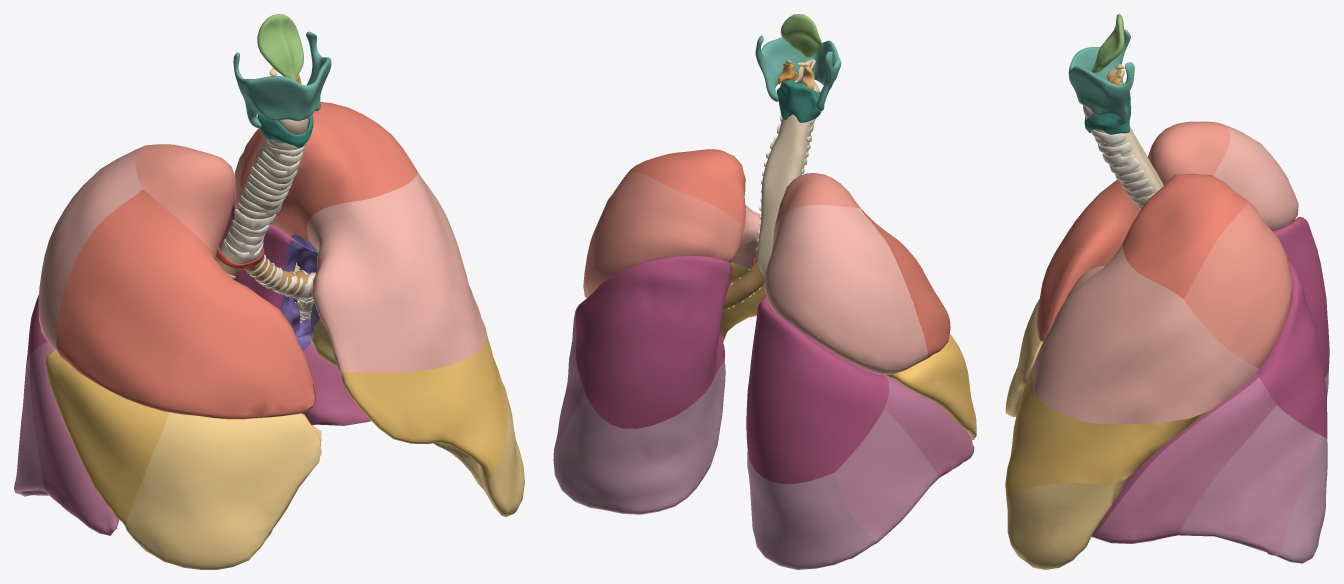
Rendered from pulmao.glb.
3 views of the same model, side by side, from view 1: azimuth 30°, elevation 25°; view 2: azimuth 150°, elevation 25°; view 3: azimuth 270°, elevation 25° (orthographic). The views are drawn at different scales.
Visible parts, largest first — view 1: VH_M_right_anterior_bronchopulmonary_segment, VH_M_left_anterior_bronchopulmonary_segment, VH_M_right_medial_bronchopulmonary_segment, VH_M_left_lingula_superior_bronchopulmonary_segment, VH_M_left_apical_bronchopulmonary_segment, VH_M_right_lateral_bronchopulmonary_segment, VH_M_right_apical_bronchopulmonary_segment, VH_M_right_posterior_bronchopulmonary_segment, VH_M_right_anterior_basal_bronchopulmonary_segment, VH_M_thyroid_cartilage, VH_M_tracheal_cartilage, VH_M_left_lingula_inferior_bronchopulmonary_segment (+10 smaller); view 2: VH_M_left_superior_bronchopulmonary_segment, VH_M_right_posterior_bronchopulmonary_segment, VH_M_right_superior_bronchopulmonary_segment, VH_M_left_posetrior_basal_bronchopulmonary_segment, VH_M_left_posterior_bronchopulmonary_segment, VH_M_right_posterior_basal_bronchopulmonary_segment, VH_M_right_lateral_basal_bronchopulmonary_segment, VH_M_left_apical_bronchopulmonary_segment, VH_M_right_anterior_basal_bronchopulmonary_segment, VH_M_trachea, VH_M_right_lateral_bronchopulmonary_segment, VH_M_right_anterior_bronchopulmonary_segment (+8 smaller); view 3: VH_M_left_anterior_bronchopulmonary_segment, VH_M_left_lateral_basal_bronchopulmonary_segment, VH_M_left_posterior_bronchopulmonary_segment, VH_M_left_anterior_basal_bronchopulmonary_segment, VH_M_left_lingula_superior_bronchopulmonary_segment, VH_M_left_apical_bronchopulmonary_segment, VH_M_left_lingula_inferior_bronchopulmonary_segment, VH_M_right_anterior_bronchopulmonary_segment, VH_M_left_superior_bronchopulmonary_segment, VH_M_right_posterior_bronchopulmonary_segment, VH_M_right_apical_bronchopulmonary_segment, VH_M_left_posetrior_basal_bronchopulmonary_segment (+8 smaller).
Boxes of the visible parts, left/top/right/bottom form: VH_M_right_anterior_bronchopulmonary_segment: left=56, top=189, right=315, bottom=419; VH_M_left_anterior_bronchopulmonary_segment: left=307, top=172, right=486, bottom=372; VH_M_right_medial_bronchopulmonary_segment: left=125, top=412, right=321, bottom=569; VH_M_left_lingula_superior_bronchopulmonary_segment: left=338, top=328, right=507, bottom=477; VH_M_left_apical_bronchopulmonary_segment: left=240, top=102, right=417, bottom=240; VH_M_right_lateral_bronchopulmonary_segment: left=45, top=349, right=169, bottom=525; VH_M_right_apical_bronchopulmonary_segment: left=135, top=144, right=235, bottom=259; VH_M_right_posterior_bronchopulmonary_segment: left=38, top=146, right=143, bottom=355; VH_M_right_anterior_basal_bronchopulmonary_segment: left=30, top=342, right=119, bottom=535; VH_M_thyroid_cartilage: left=233, top=31, right=331, bottom=128; VH_M_tracheal_cartilage: left=224, top=139, right=306, bottom=259; VH_M_left_lingula_inferior_bronchopulmonary_segment: left=311, top=318, right=524, bottom=517; VH_M_left_superior_bronchopulmonary_segment: left=575, top=256, right=732, bottom=428; VH_M_right_posterior_bronchopulmonary_segment: left=764, top=205, right=927, bottom=374; VH_M_right_superior_bronchopulmonary_segment: left=746, top=296, right=889, bottom=483; VH_M_left_posetrior_basal_bronchopulmonary_segment: left=553, top=358, right=725, bottom=514; VH_M_left_posterior_bronchopulmonary_segment: left=585, top=172, right=744, bottom=294; VH_M_right_posterior_basal_bronchopulmonary_segment: left=747, top=451, right=877, bottom=569; VH_M_right_lateral_basal_bronchopulmonary_segment: left=835, top=408, right=938, bottom=542; VH_M_left_apical_bronchopulmonary_segment: left=624, top=149, right=745, bottom=227; VH_M_right_anterior_basal_bronchopulmonary_segment: left=884, top=374, right=974, bottom=477; VH_M_trachea: left=755, top=59, right=819, bottom=278; VH_M_right_lateral_bronchopulmonary_segment: left=886, top=334, right=975, bottom=431; VH_M_right_anterior_bronchopulmonary_segment: left=861, top=209, right=950, bottom=358; VH_M_left_anterior_bronchopulmonary_segment: left=1032, top=243, right=1259, bottom=424; VH_M_left_lateral_basal_bronchopulmonary_segment: left=1178, top=404, right=1317, bottom=556; VH_M_left_posterior_bronchopulmonary_segment: left=1184, top=200, right=1292, bottom=368; VH_M_left_anterior_basal_bronchopulmonary_segment: left=1091, top=377, right=1276, bottom=543; VH_M_left_lingula_superior_bronchopulmonary_segment: left=1005, top=365, right=1254, bottom=499; VH_M_left_apical_bronchopulmonary_segment: left=1123, top=173, right=1247, bottom=299; VH_M_left_lingula_inferior_bronchopulmonary_segment: left=1006, top=472, right=1133, bottom=569; VH_M_right_anterior_bronchopulmonary_segment: left=1036, top=180, right=1139, bottom=341; VH_M_left_superior_bronchopulmonary_segment: left=1256, top=260, right=1327, bottom=438; VH_M_right_posterior_bronchopulmonary_segment: left=1213, top=124, right=1298, bottom=231; VH_M_right_apical_bronchopulmonary_segment: left=1138, top=121, right=1230, bottom=211; VH_M_left_posetrior_basal_bronchopulmonary_segment: left=1276, top=434, right=1327, bottom=563.
Size of the model in its own units: 0.2594 by 0.3146 by 0.1897.
